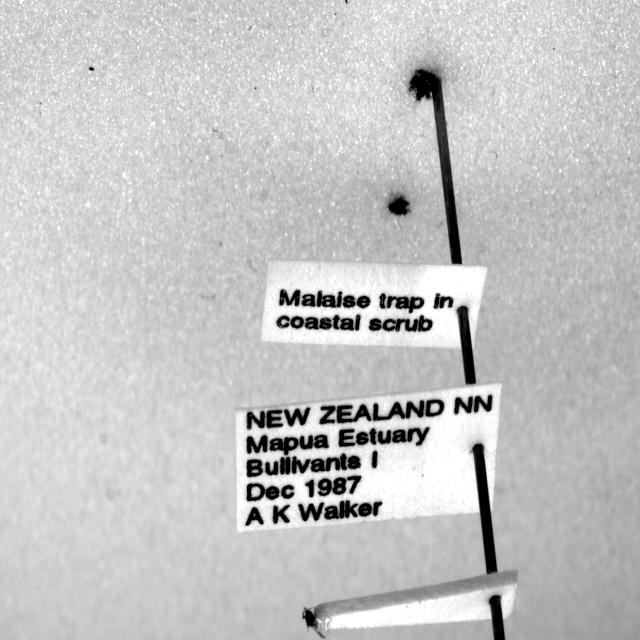typed_label: (236, 382, 501, 532), (261, 259, 486, 349)
